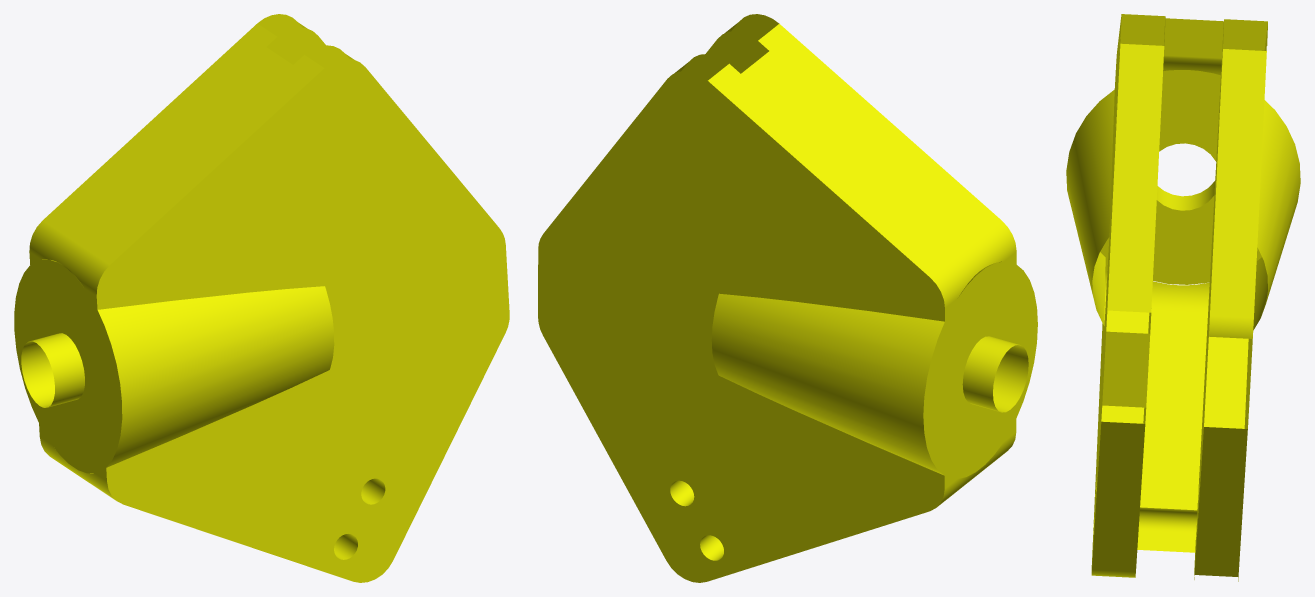
The model's file is body_11.obj.
3 views of the same model, side by side, from view 1: azimuth 30°, elevation 25°; view 2: azimuth 150°, elevation 25°; view 3: azimuth 270°, elevation 25° (orthographic). The views are drawn at different scales.
Parts seen in each view (by area): view 1: Body_18; view 2: Body_18; view 3: Body_18.
Boxes of the visible parts, box(x1,y1,x2,y2) form: Body_18: box(14, 14, 509, 582); Body_18: box(538, 14, 1037, 582); Body_18: box(1066, 14, 1300, 581).
Size of the model in its own units: 0.0729 by 0.0834 by 0.032.
